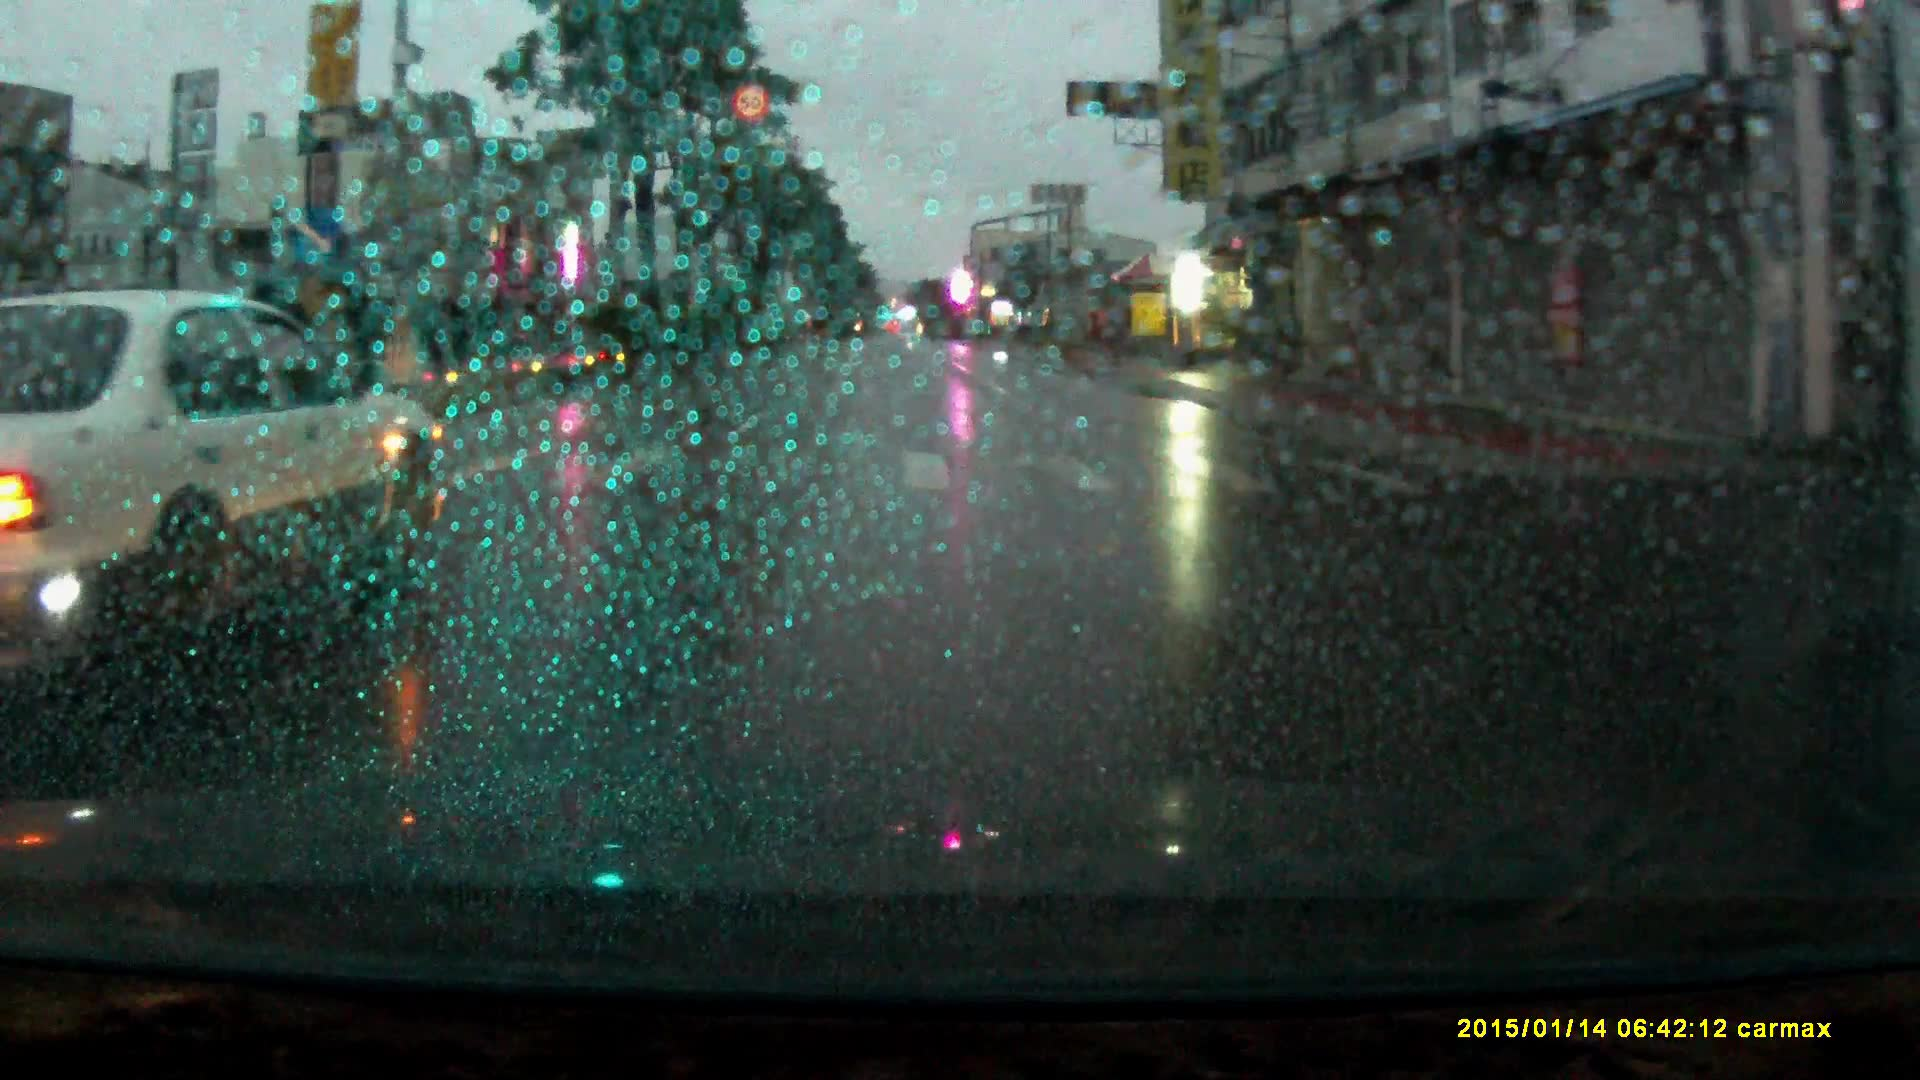vehicle: (1, 290, 456, 669)
